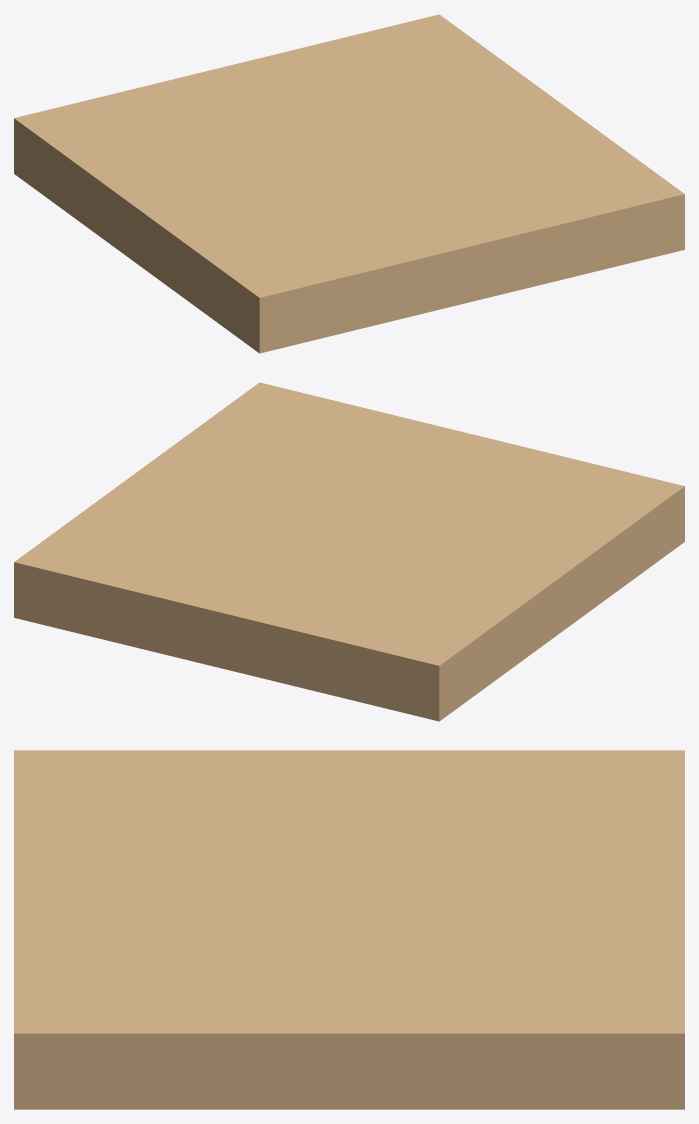
Rendered from tile_sand.glb.
3 views of the same model, one above another, from view 1: azimuth 30°, elevation 25°; view 2: azimuth 150°, elevation 25°; view 3: azimuth 270°, elevation 25° (orthographic). The views are drawn at different scales.
Visible parts, largest first — view 1: Plane.023; view 2: Plane.023; view 3: Plane.023.
Part boxes in pixels (left/top/right/bottom): Plane.023: left=14, top=14, right=684, bottom=353; Plane.023: left=14, top=382, right=684, bottom=721; Plane.023: left=14, top=750, right=684, bottom=1109.
Size of the model in its own units: 2 by 0.25 by 2.
